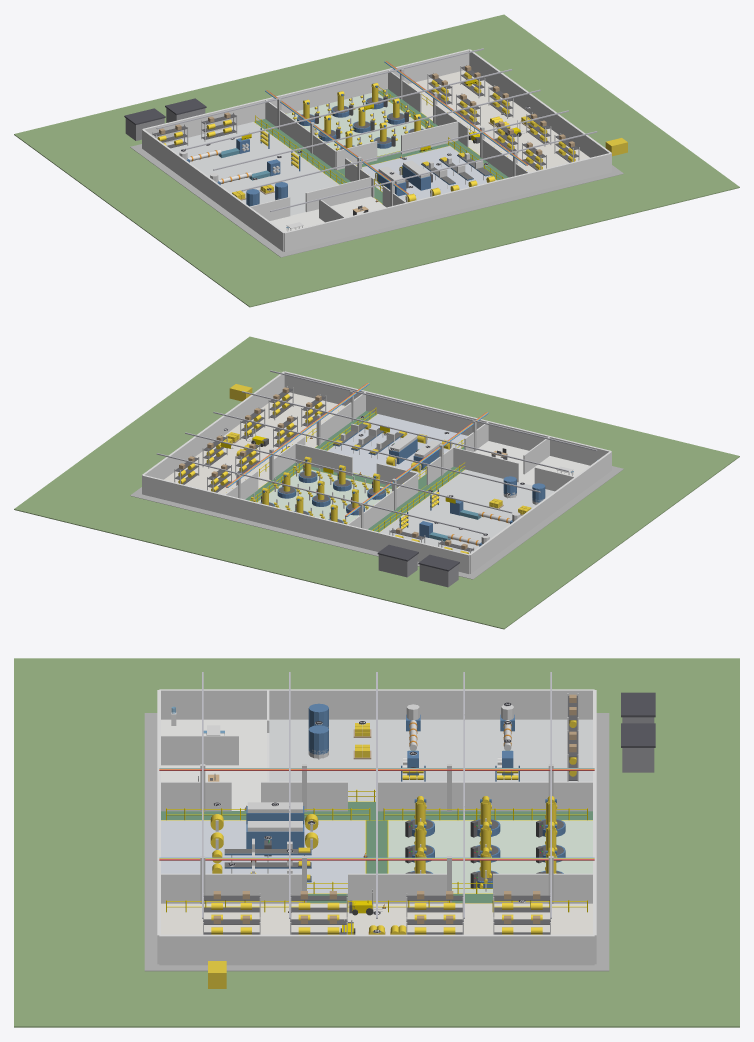
File: factory_floor.glb
3 views of the same model, one above another, from view 1: azimuth 30°, elevation 25°; view 2: azimuth 150°, elevation 25°; view 3: azimuth 270°, elevation 25° (orthographic). The views are drawn at different scales.
Visible parts, largest first — view 1: BackgroundLawn, OuterWall_S, ExtrusionFloor, OuterWall_N, WarehouseFloor, OuterWall_W, ConcreteSlabBase, OuterWall_E, WeavingFloor, PrintingFloor, Partition_W_3, Partition_Office_Extrusion_2 (+14 smaller); view 2: BackgroundLawn, OuterWall_N, OuterWall_S, ExtrusionFloor, WarehouseFloor, OuterWall_W, PrintingFloor, OuterWall_E, ConcreteSlabBase, WeavingFloor, OfficeFloor, Partition_Office_Extrusion_2 (+17 smaller); view 3: BackgroundLawn, ExtrusionFloor, OuterWall_E, OuterWall_W, ConcreteSlabBase, WarehouseFloor, PrintingFloor, WeavingFloor, Partition_W_3, OfficeFloor, Partition_E_1, Walkway_Left (+17 smaller).
Part boxes in pixels (x1,y1,x2,y2): BackgroundLawn: [14, 14, 739, 307]; OuterWall_S: [284, 153, 611, 251]; ExtrusionFloor: [166, 122, 338, 215]; OuterWall_N: [142, 49, 469, 143]; WarehouseFloor: [409, 70, 589, 172]; OuterWall_W: [142, 129, 284, 251]; ConcreteSlabBase: [130, 144, 623, 257]; OuterWall_E: [469, 49, 611, 171]; WeavingFloor: [286, 93, 425, 156]; PrintingFloor: [362, 146, 496, 201]; Partition_W_3: [265, 99, 335, 170]; Partition_Office_Extrusion_2: [305, 177, 371, 211]; BackgroundLawn: [14, 336, 739, 629]; OuterWall_N: [142, 475, 469, 573]; OuterWall_S: [284, 371, 611, 465]; ExtrusionFloor: [379, 469, 554, 553]; WarehouseFloor: [164, 392, 344, 494]; OuterWall_W: [469, 451, 611, 573]; PrintingFloor: [327, 414, 467, 479]; OuterWall_E: [142, 371, 284, 493]; ConcreteSlabBase: [130, 466, 623, 579]; WeavingFloor: [257, 469, 391, 523]; OfficeFloor: [474, 441, 589, 485]; Partition_Office_Extrusion_2: [453, 447, 518, 482]; BackgroundLawn: [14, 658, 739, 1027]; ExtrusionFloor: [269, 719, 592, 801]; OuterWall_E: [159, 934, 594, 965]; OuterWall_W: [159, 689, 594, 719]; ConcreteSlabBase: [144, 713, 609, 971]; WarehouseFloor: [161, 903, 592, 934]; PrintingFloor: [161, 820, 365, 893]; WeavingFloor: [388, 820, 592, 893]; Partition_W_3: [378, 781, 593, 811]; OfficeFloor: [161, 719, 266, 810]; Partition_E_1: [160, 873, 301, 903]; Walkway_Left: [161, 811, 592, 819].
Bounding box in the file's own units: 60 × 3.85 × 50.
